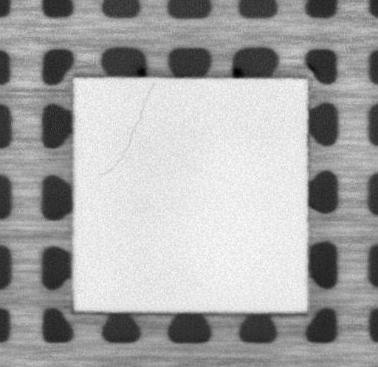DIE_CRACK: (101, 82, 158, 176)
